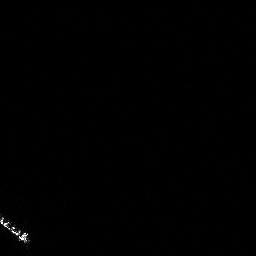ship: (1, 211, 33, 246)
